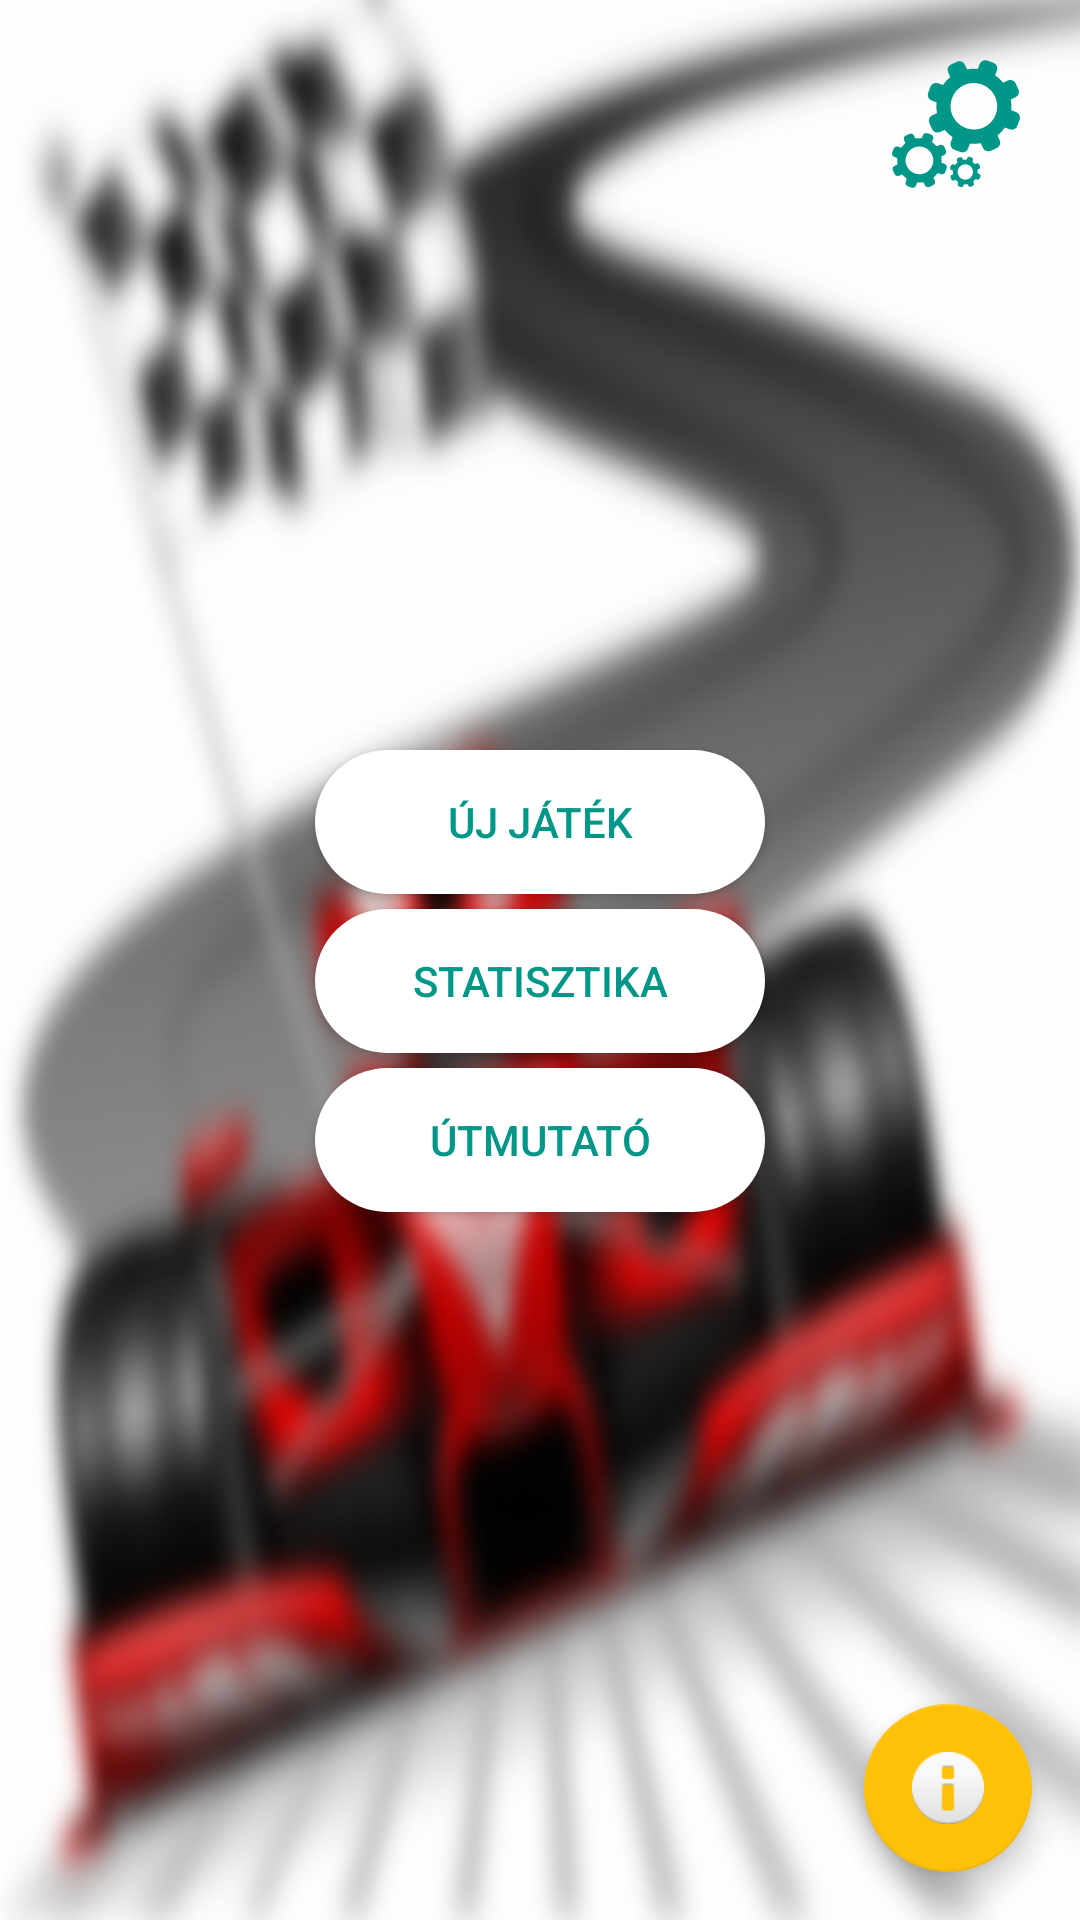

Icon click points for this 1080*1920 phone screenshot, format (x,y):
info: (948,1788)
settings: (956,124)
